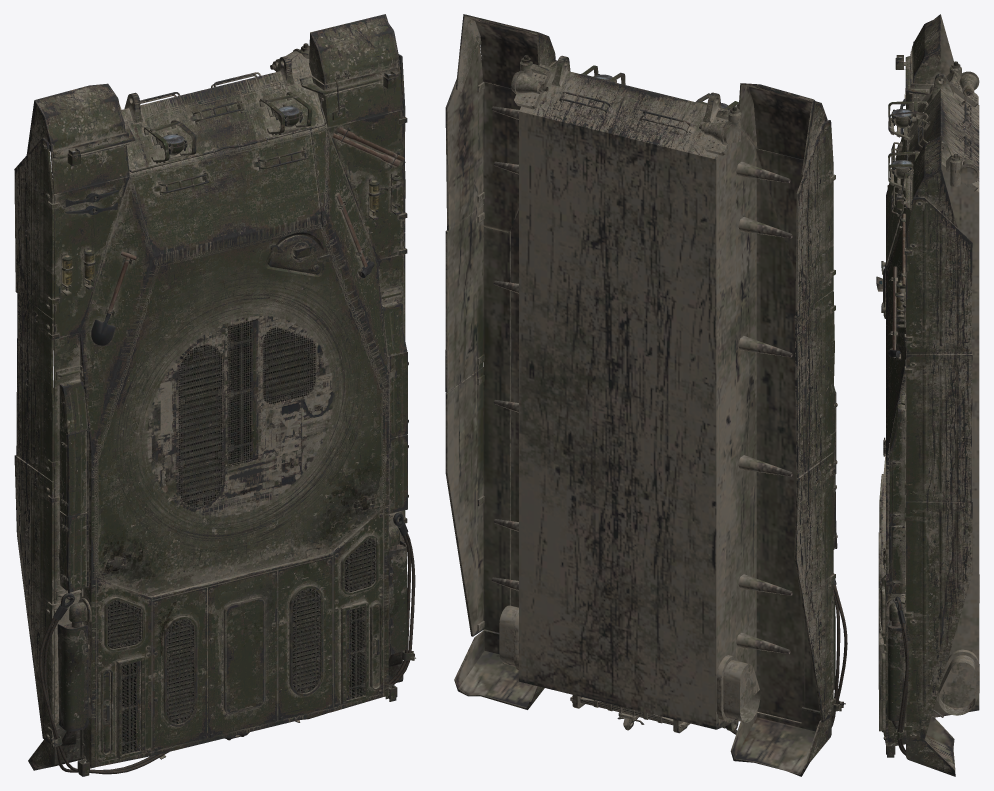
Rendered from Hull.glb.
3 views of the same model, side by side, from view 1: azimuth 30°, elevation 25°; view 2: azimuth 150°, elevation 25°; view 3: azimuth 270°, elevation 25° (orthographic). The views are drawn at different scales.
Visible parts, largest first — view 1: set_0_group_0; view 2: set_0_group_0; view 3: set_0_group_0.
Boxes of the visible parts, x1=… form: set_0_group_0: x1=14, y1=14, x2=415, y2=776; set_0_group_0: x1=445, y1=14, x2=847, y2=776; set_0_group_0: x1=876, y1=14, x2=979, y2=776.
Size of the model in its own units: 3.99 by 6.88 by 1.05.
1 material, 1 textured.
